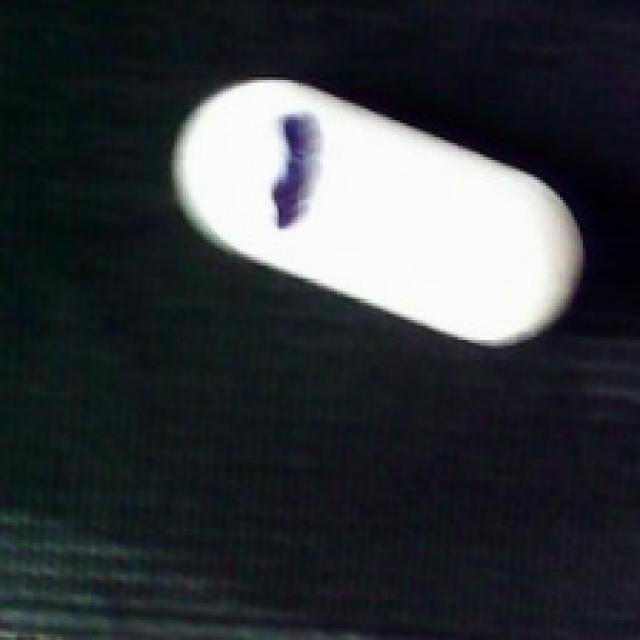defected: (169, 74, 594, 350)
